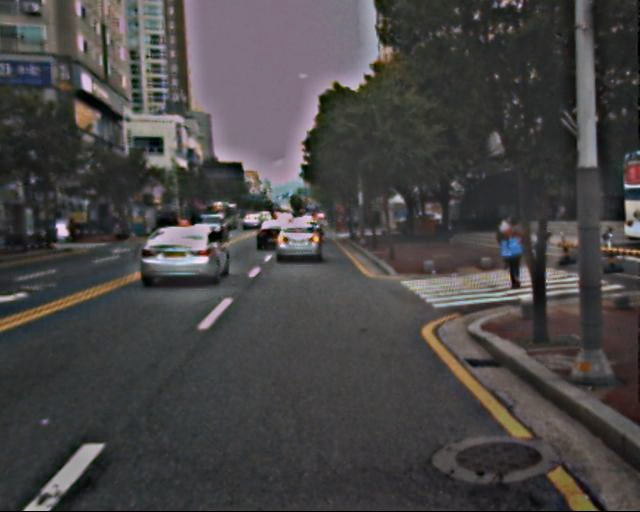person: (498, 213, 531, 293), (496, 216, 519, 272)
